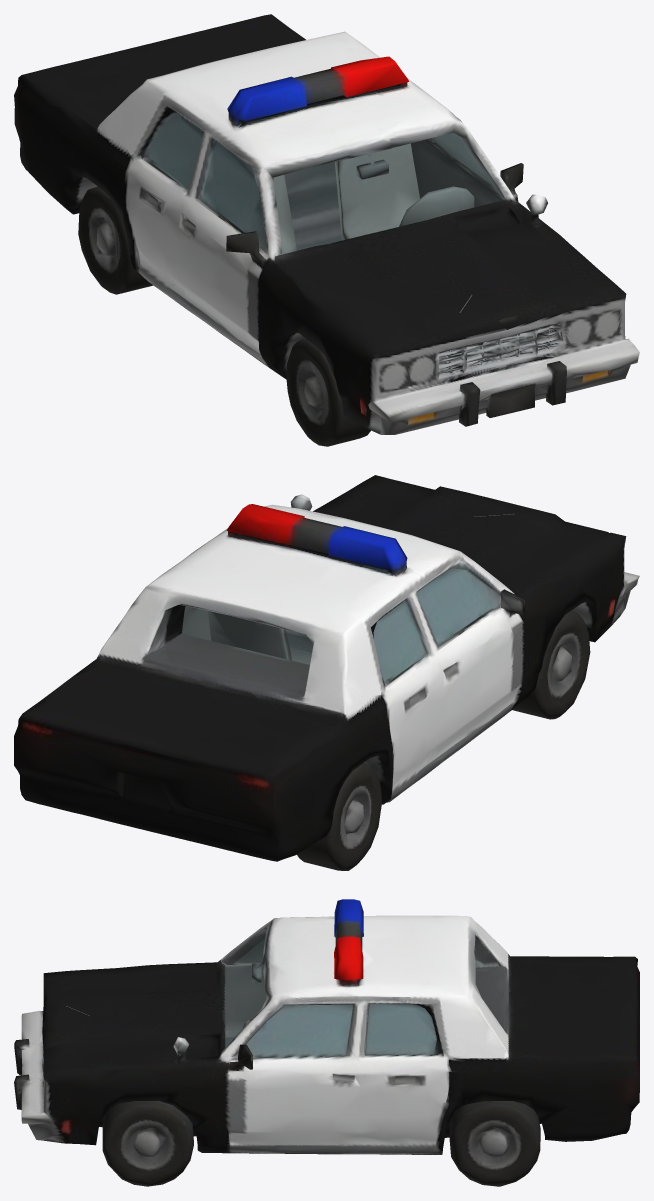
The model's file is PoliceCar.fbx.
3 views of the same model, one above another, from view 1: azimuth 30°, elevation 25°; view 2: azimuth 150°, elevation 25°; view 3: azimuth 270°, elevation 25° (orthographic). The views are drawn at different scales.
Visible parts, largest first — view 1: tripo_node_83f6367f; view 2: tripo_node_83f6367f; view 3: tripo_node_83f6367f.
Boxes of the visible parts, left/top/right/bottom form: tripo_node_83f6367f: left=14, top=14, right=639, bottom=446; tripo_node_83f6367f: left=14, top=475, right=639, bottom=870; tripo_node_83f6367f: left=14, top=899, right=639, bottom=1186.
Bounding box in the file's own units: 0.4551 × 0.3666 × 1.
1 material, 1 textured.
